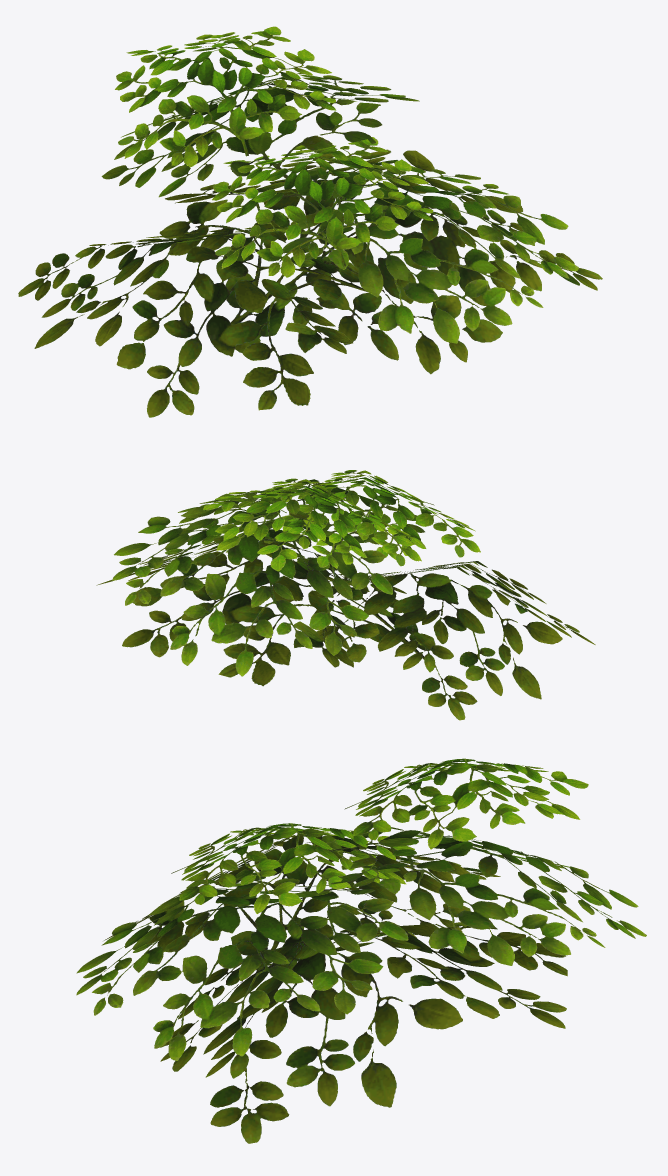
The model's file is yj_shuye_4_1.FBX.
3 renders of one model, top to bottom at view 1: azimuth 30°, elevation 25°; view 2: azimuth 150°, elevation 25°; view 3: azimuth 270°, elevation 25°, orthographic. The views are drawn at different scales.
Parts seen in each view (by area): view 1: yj_shuye_4_1; view 2: yj_shuye_4_1; view 3: yj_shuye_4_1.
Part boxes in pixels (box(x1,y1,x2,y2)): yj_shuye_4_1: box(18, 26, 602, 417); yj_shuye_4_1: box(96, 470, 595, 720); yj_shuye_4_1: box(76, 758, 646, 1143).
Size of the model in its own units: 1045 by 432 by 946.
